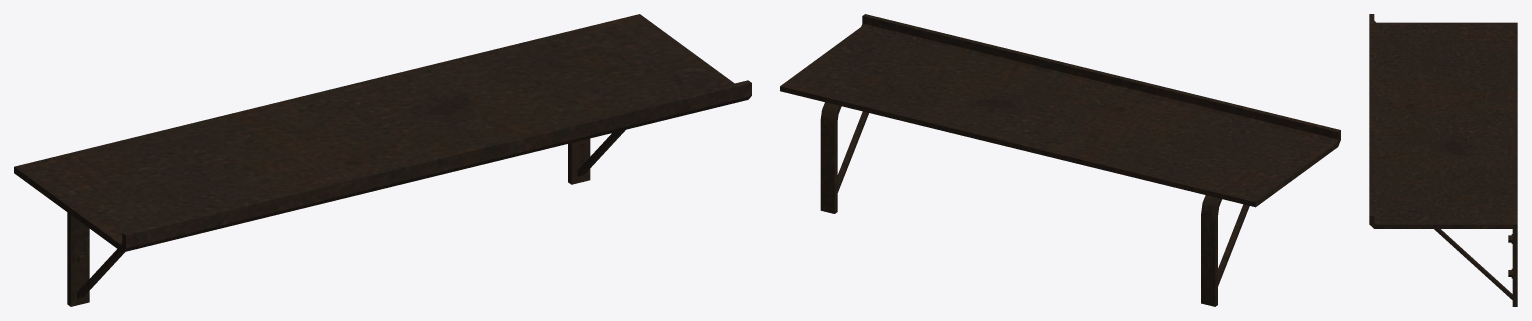
File: hanging_shelf_mx_1.dae
3 views of the same model, side by side, from view 1: azimuth 30°, elevation 25°; view 2: azimuth 150°, elevation 25°; view 3: azimuth 270°, elevation 25° (orthographic). The views are drawn at different scales.
Parts seen in each view (by area): view 1: hanging_shelf_mx_1; view 2: hanging_shelf_mx_1; view 3: hanging_shelf_mx_1.
Boxes of the visible parts, x1,y1,x2,y2 form: hanging_shelf_mx_1: (14, 14, 751, 306); hanging_shelf_mx_1: (780, 14, 1340, 306); hanging_shelf_mx_1: (1369, 14, 1517, 306).
Size of the model in its own units: 1 by 0.31 by 0.25.
Materials: 1 (1 with a texture image).
